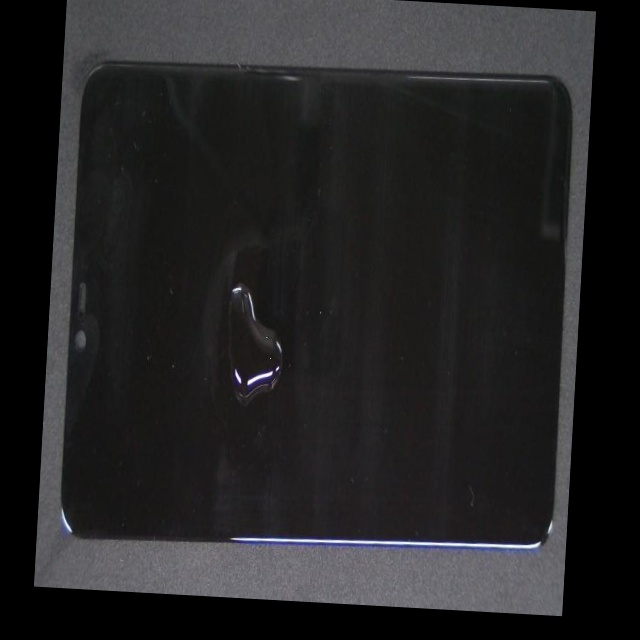oil: (137, 105, 340, 473)
